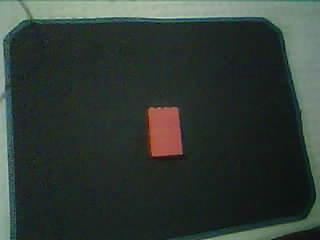lego: (143, 105, 184, 159)
